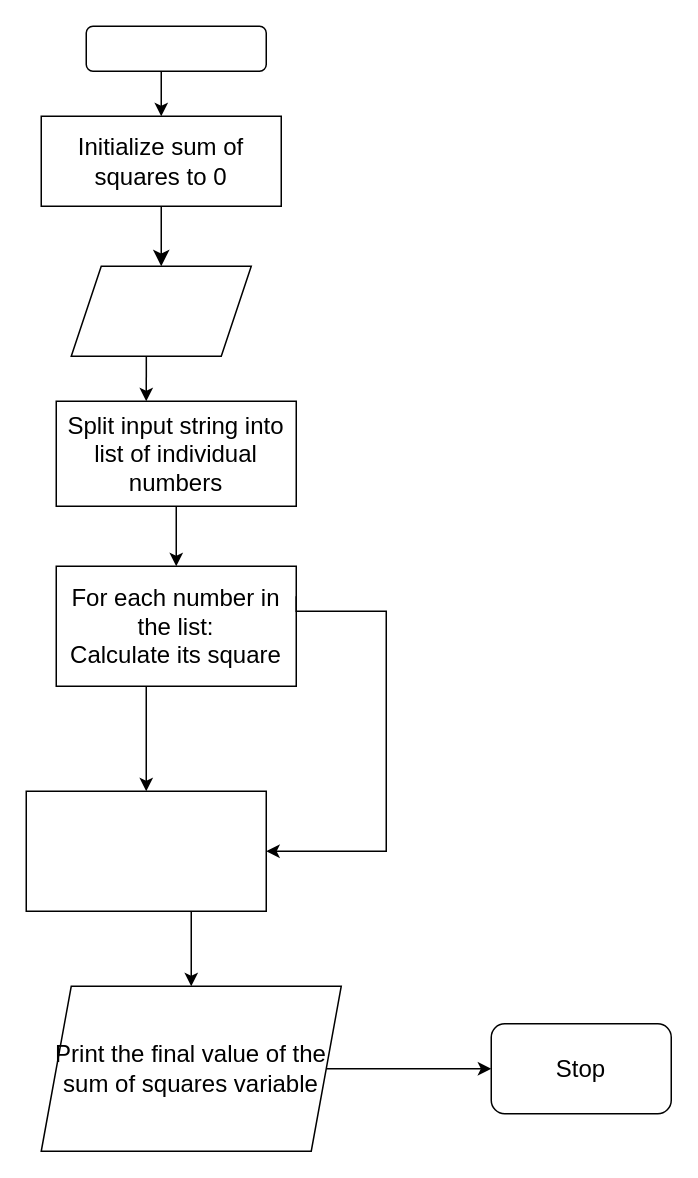
The diagram is 698 pixels wide and 1178 high, and some of its shapes have lost their labels. Each missing label, with the centre of its shape:
Add the square to the sum of squares variable: the point at 145,850
Start: the point at 175,48
Take input of numbers: the point at 160,310
